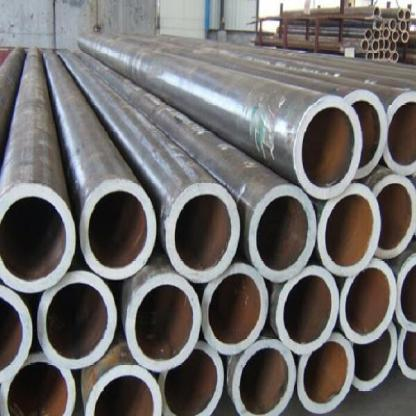pipe: (0, 181, 75, 292), (165, 181, 241, 282), (38, 271, 116, 369), (80, 180, 156, 280), (126, 274, 202, 372), (294, 96, 363, 198), (249, 183, 318, 282), (201, 264, 269, 356), (317, 184, 381, 276), (276, 266, 340, 354), (233, 337, 296, 415), (158, 342, 225, 415), (340, 260, 398, 344), (0, 353, 77, 415), (298, 334, 356, 413), (344, 88, 387, 179), (372, 174, 416, 260), (351, 324, 397, 392), (384, 90, 416, 176)
